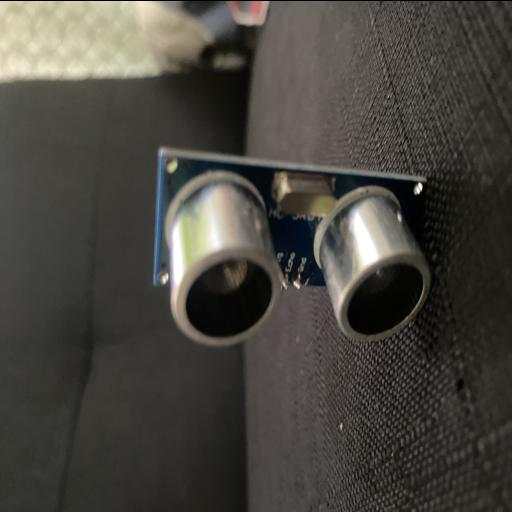Ultrasonic Sensor: (150, 144, 432, 346)
